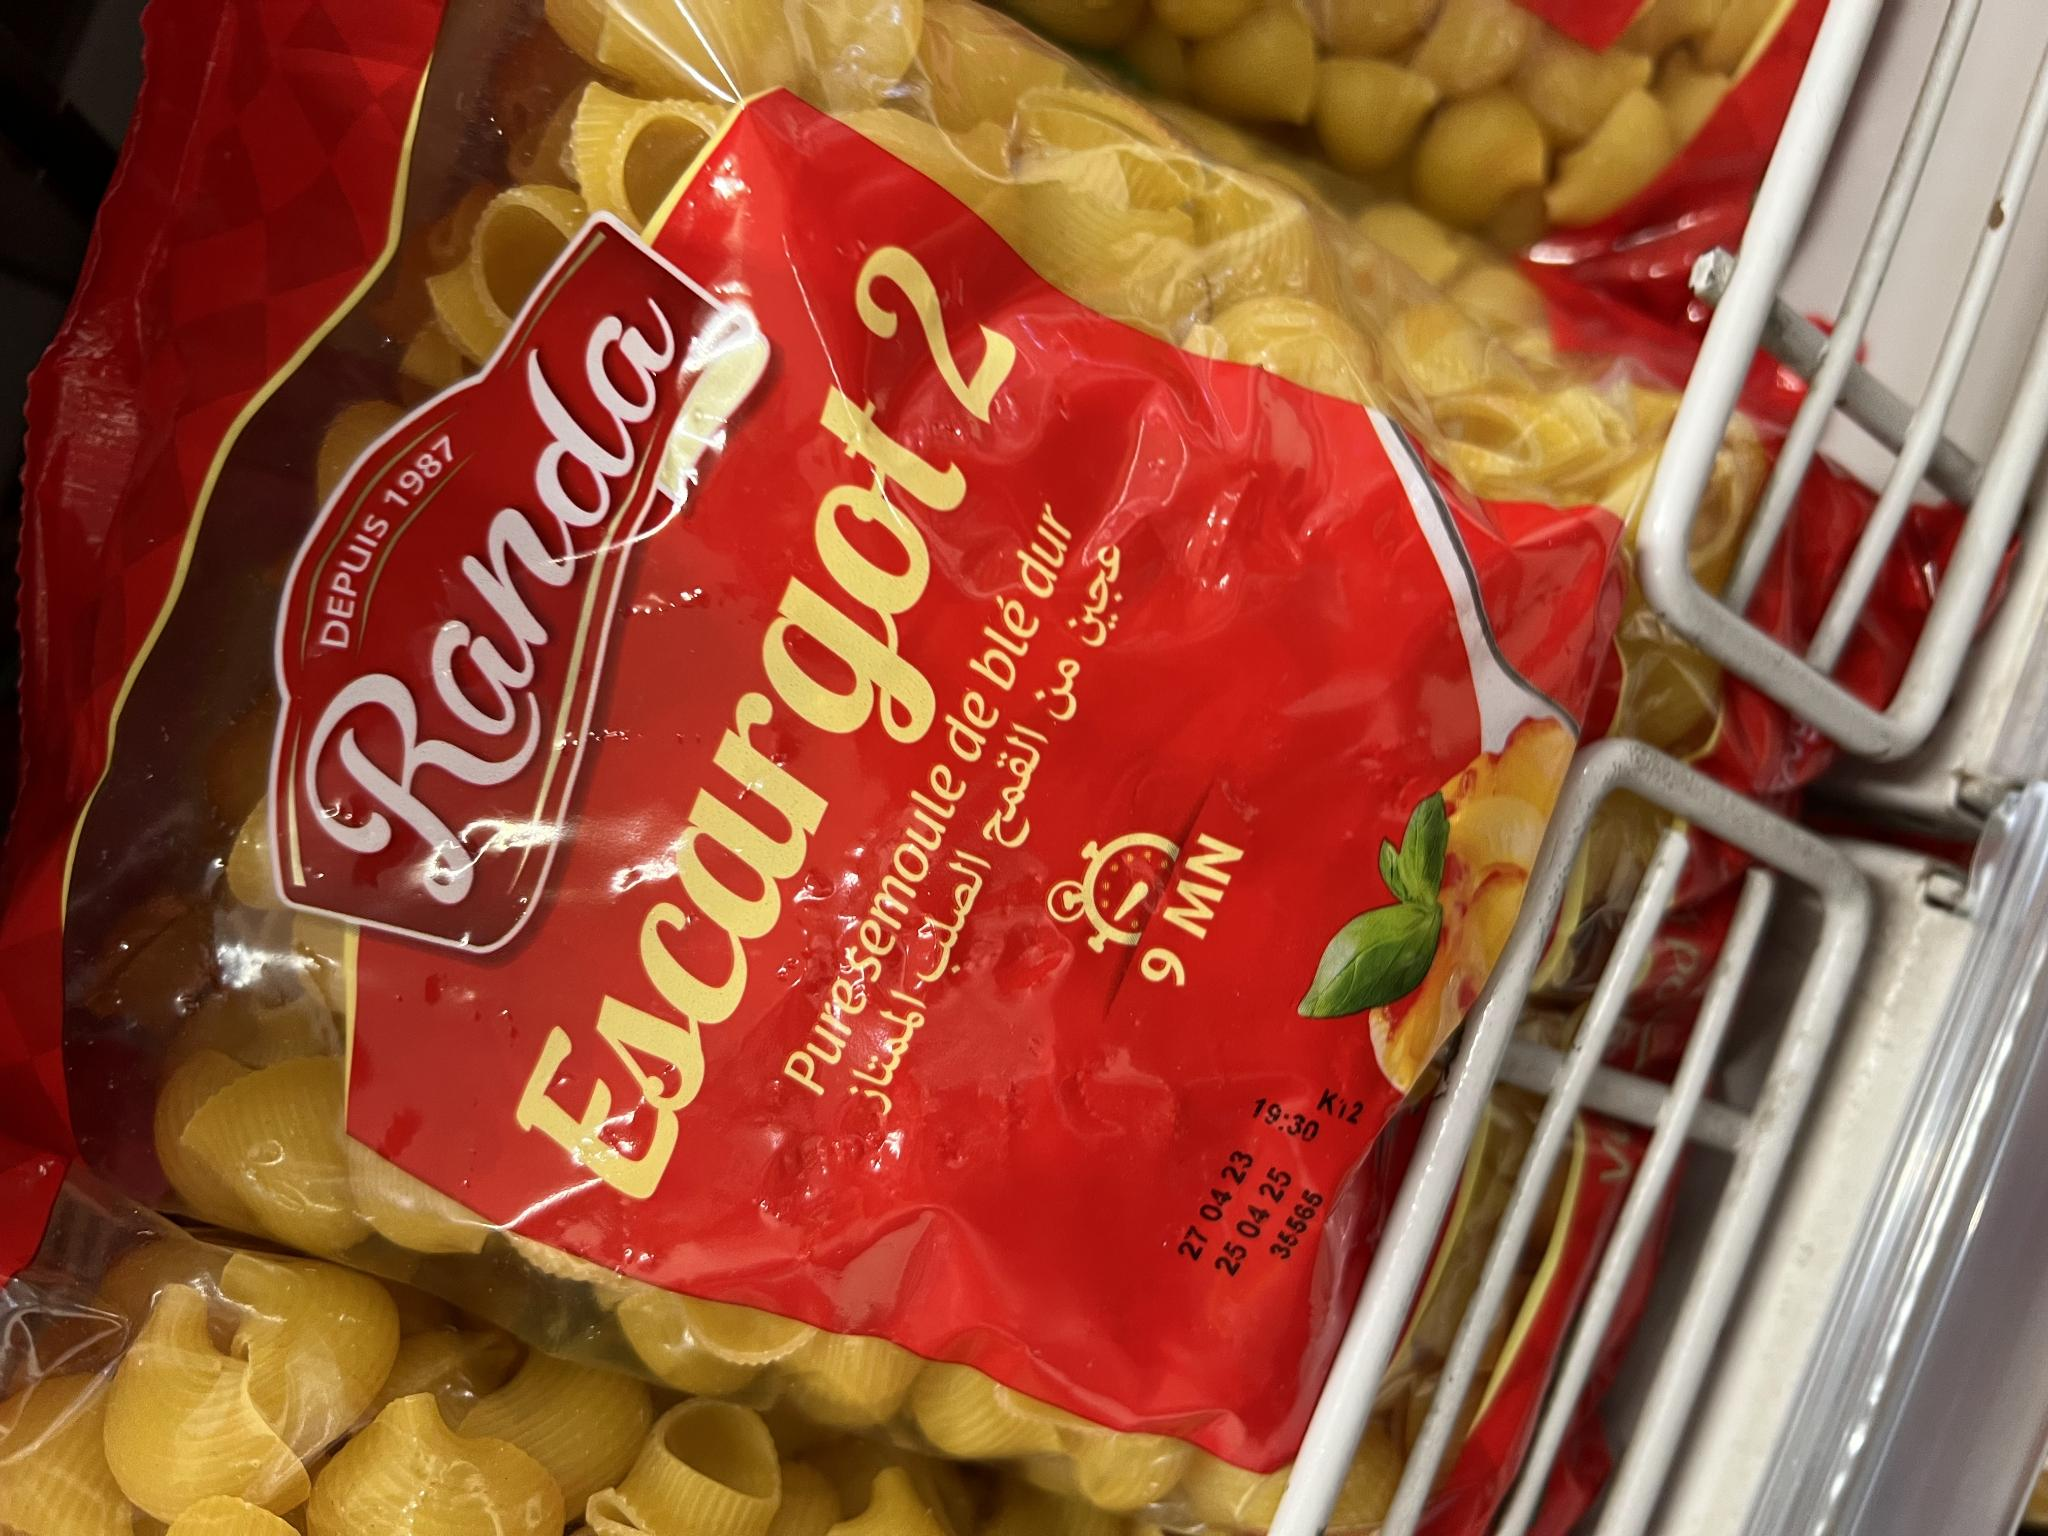Escargot: (0, 0, 1988, 1534)
